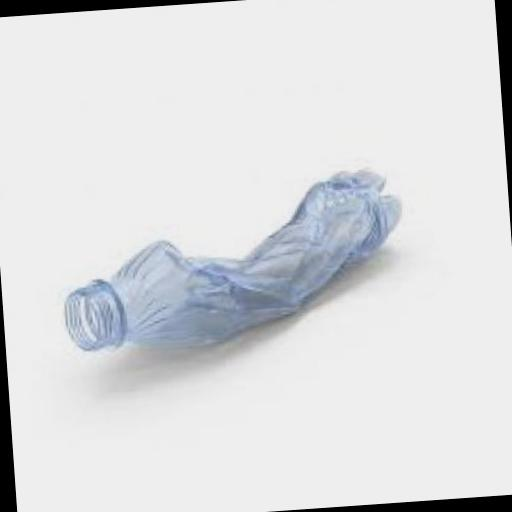plastic: (53, 166, 406, 352)
